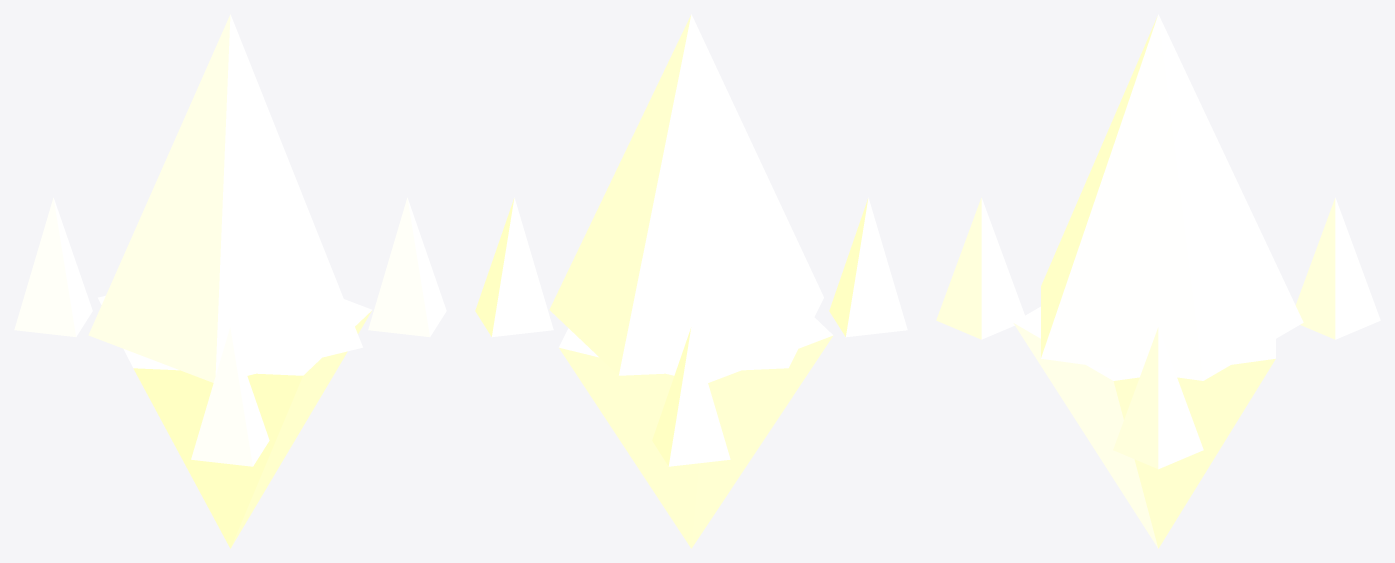
The model's file is shard.glb.
The picture shows the model from 3 angles, left to right: view 1: azimuth 30°, elevation 25°; view 2: azimuth 150°, elevation 25°; view 3: azimuth 270°, elevation 25°; orthographic projection.
Visible parts, largest first — view 1: Cone; view 2: Cone; view 3: Cone.
Part boxes in pixels (x1,y1,x2,y2): Cone: [14, 14, 446, 548]; Cone: [475, 14, 907, 548]; Cone: [936, 14, 1380, 548].
Size of the model in its own units: 0.8753 by 1.3 by 0.9793.
